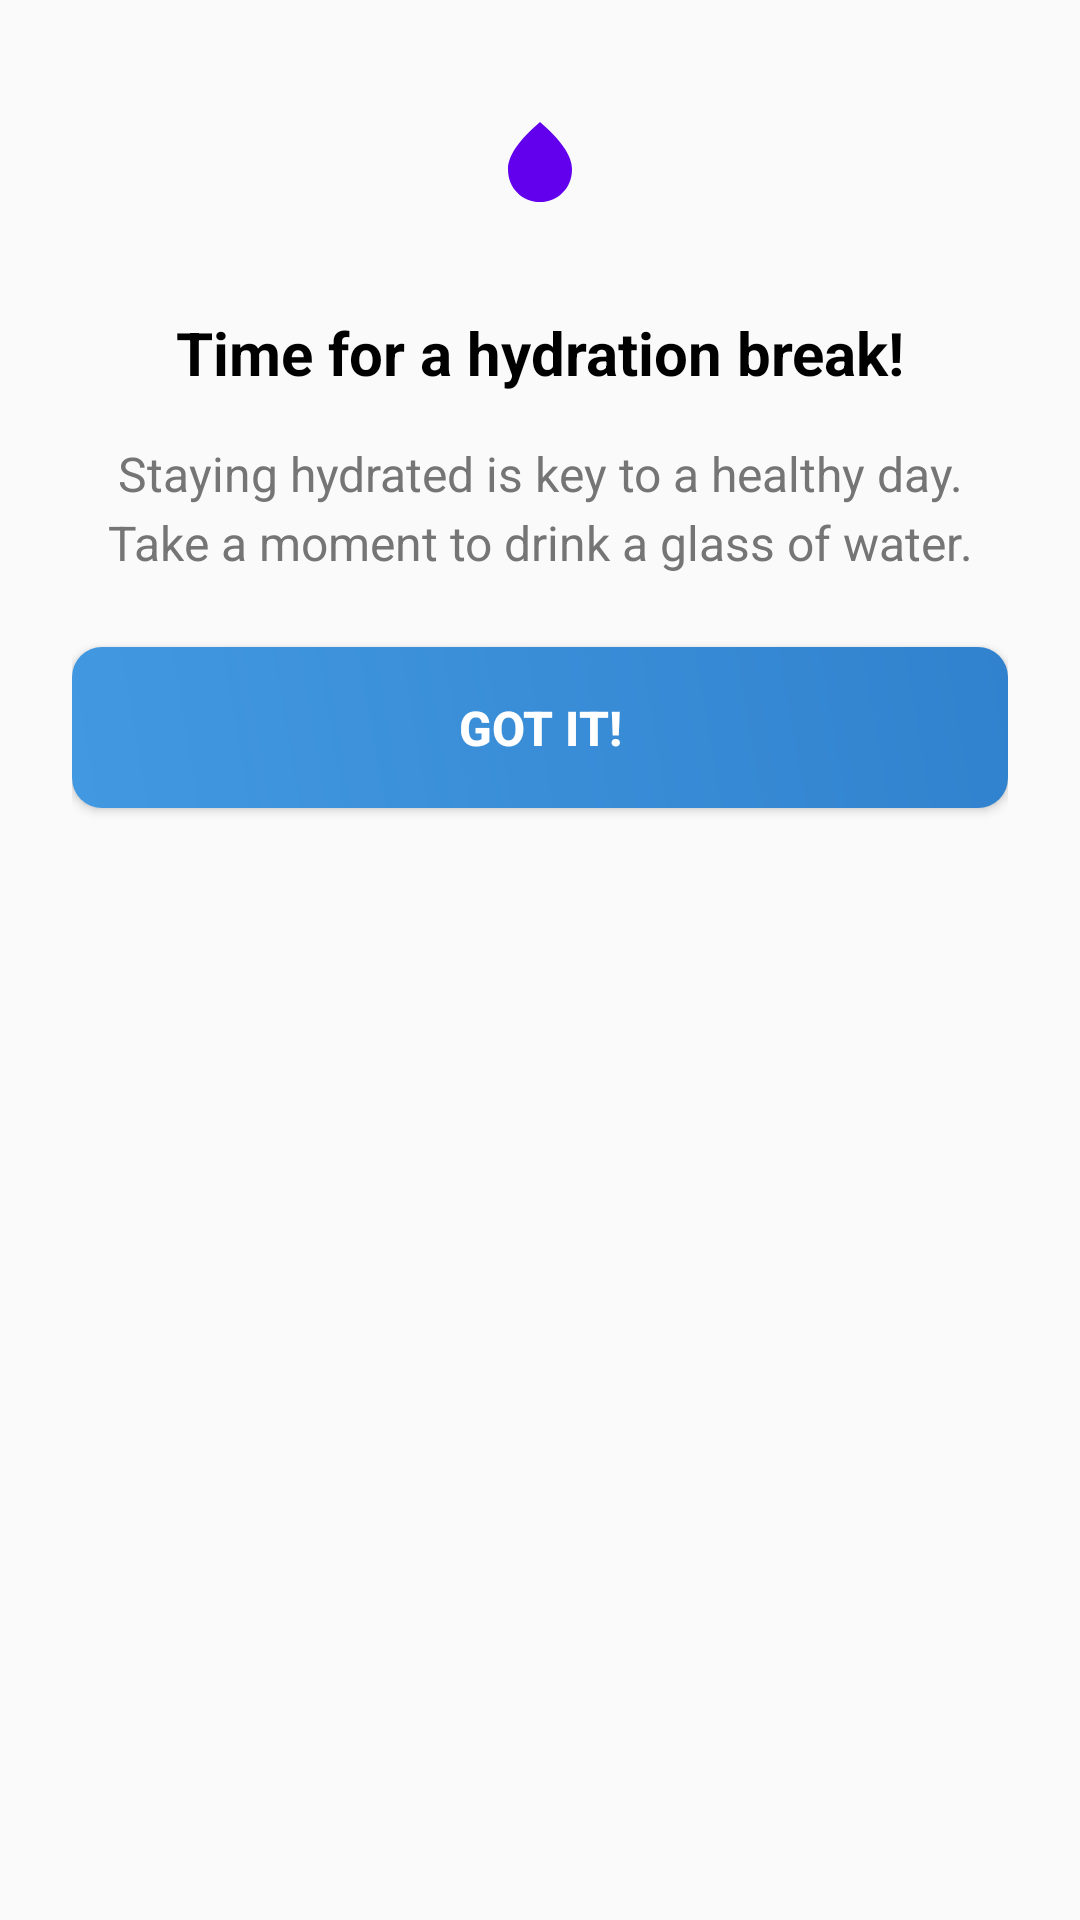

Screen size 1080w x 1920h. Icon name, then its box in pixels as (x1,y1,x2,y2):
water drop: (508,122,572,202)
